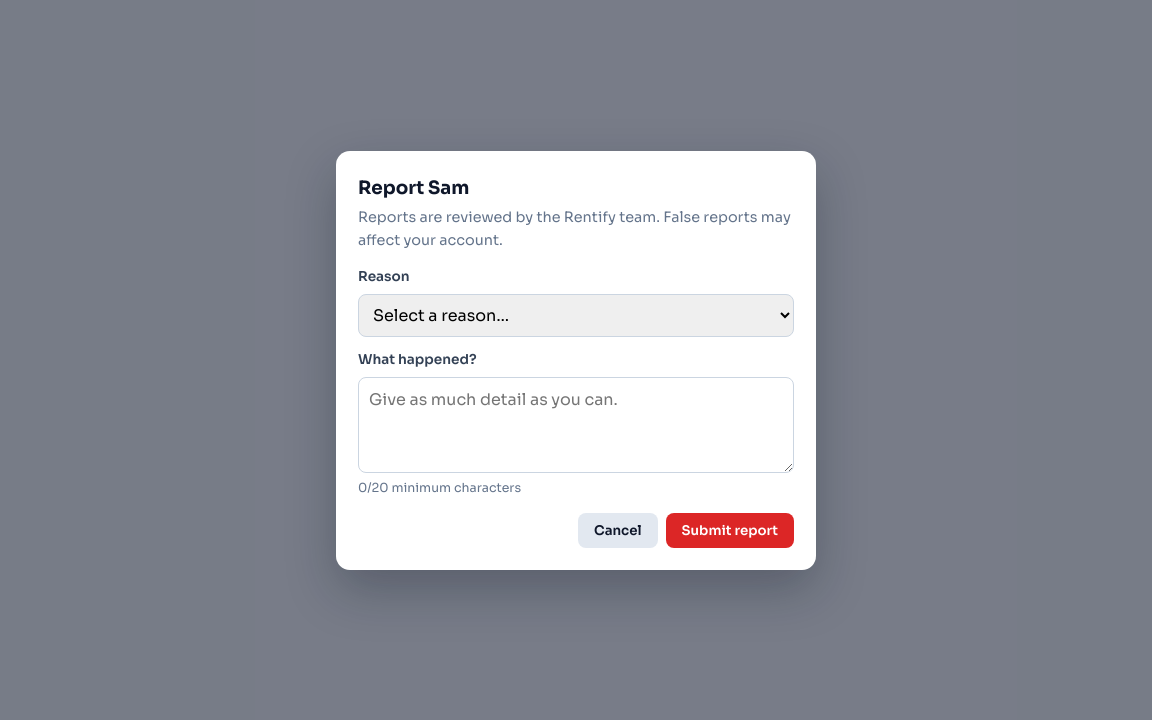
Scenario: ReportUserModal › posts the report and shows a success message
Select "Fraud or scam" in the dropdown labelled "Reason" at (576, 315), box [358,294,794,337]
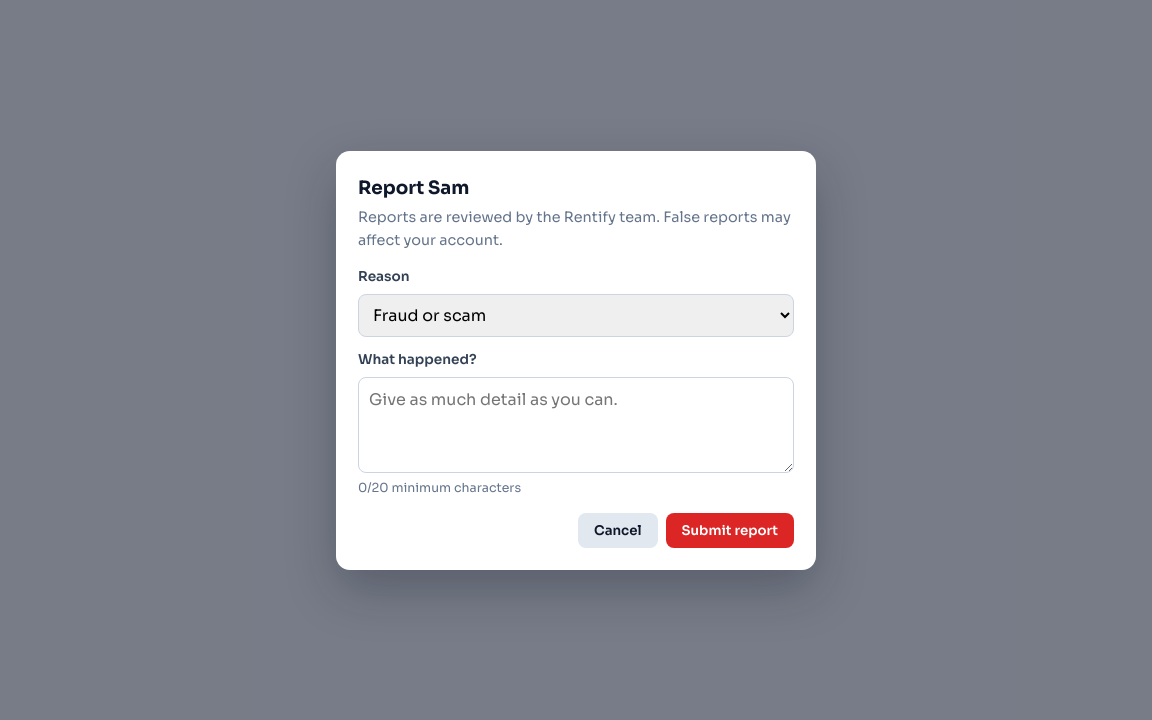
Type "They asked me to pay outside the platform." into the text box labelled "What happened?" at (576, 424), box [358,376,794,472]
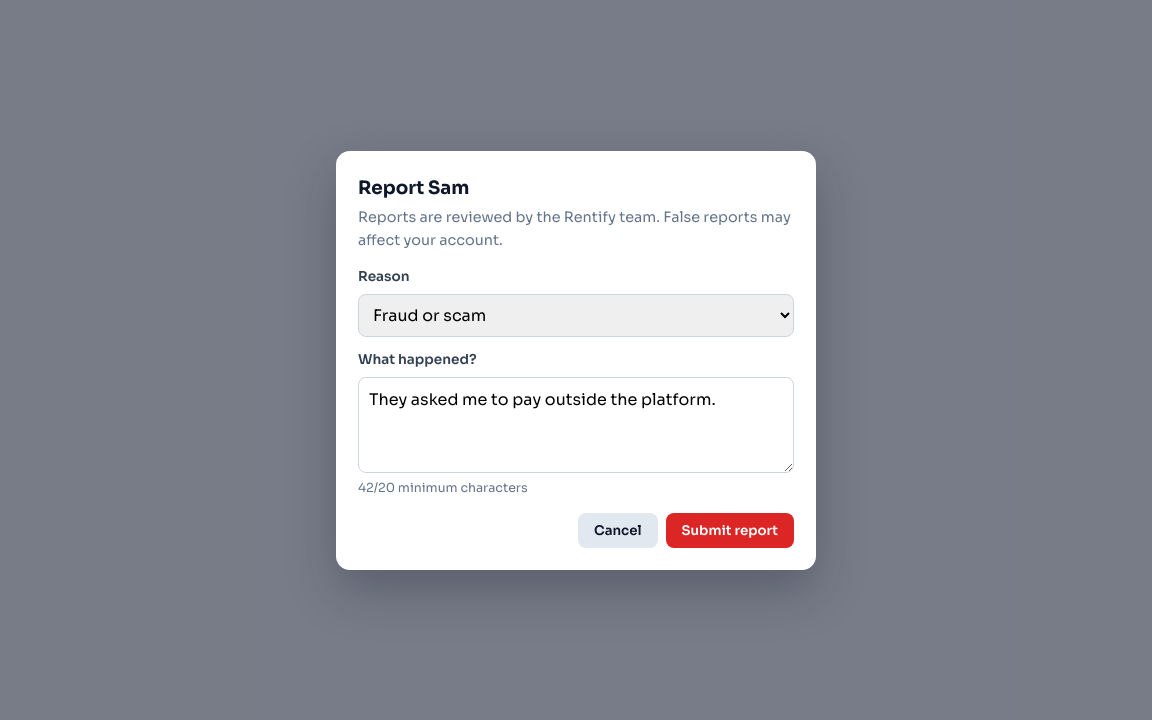
Click the button "Submit report" at (730, 530), box [666,512,794,548]
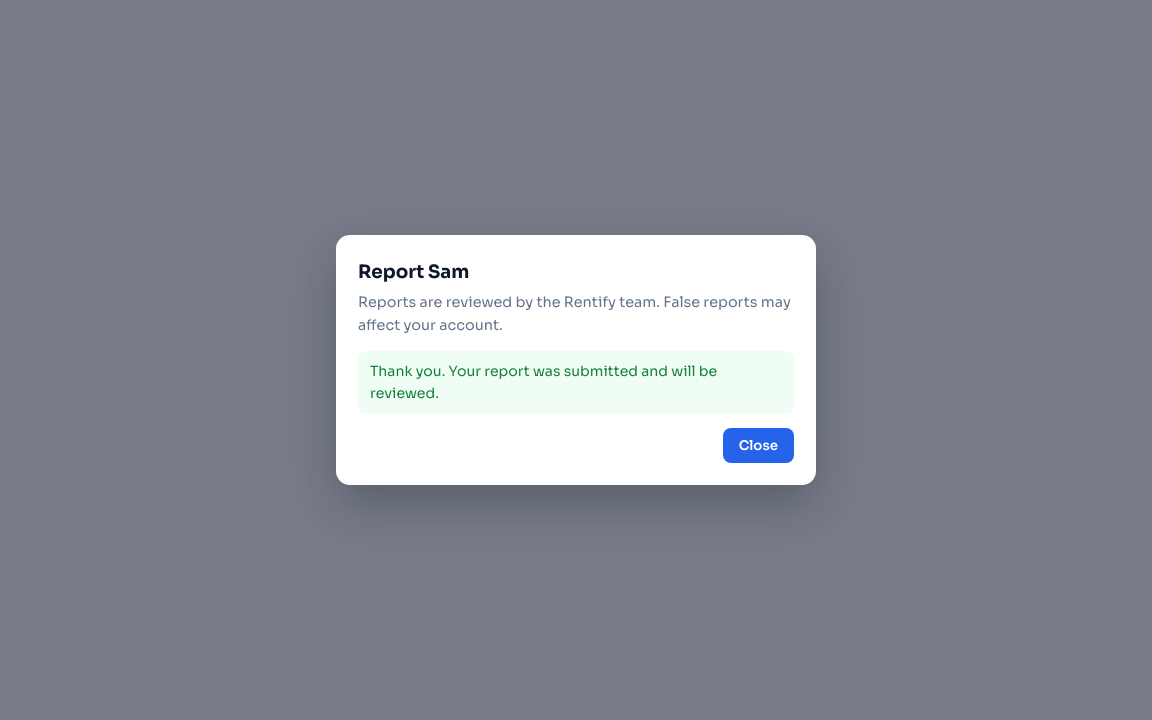
Check: the text "Thank you. Your report was submitted and will be reviewed." is shown, box [358,351,794,414]
